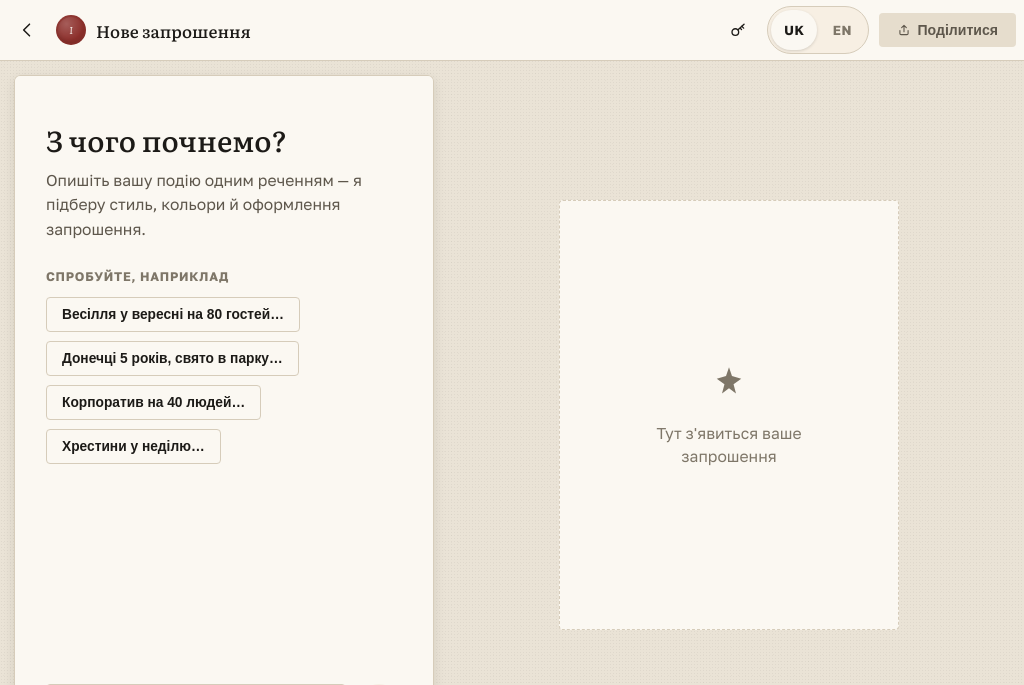
Test case: navigation › brings the editor's back button home
The width and height of the screenshot is (1024, 685).
Expected: the text "З чого почнемо?" is shown, [46,118,287,161]
Click the button named "Назад": {"x": 27, "y": 30} [8,11,46,49]
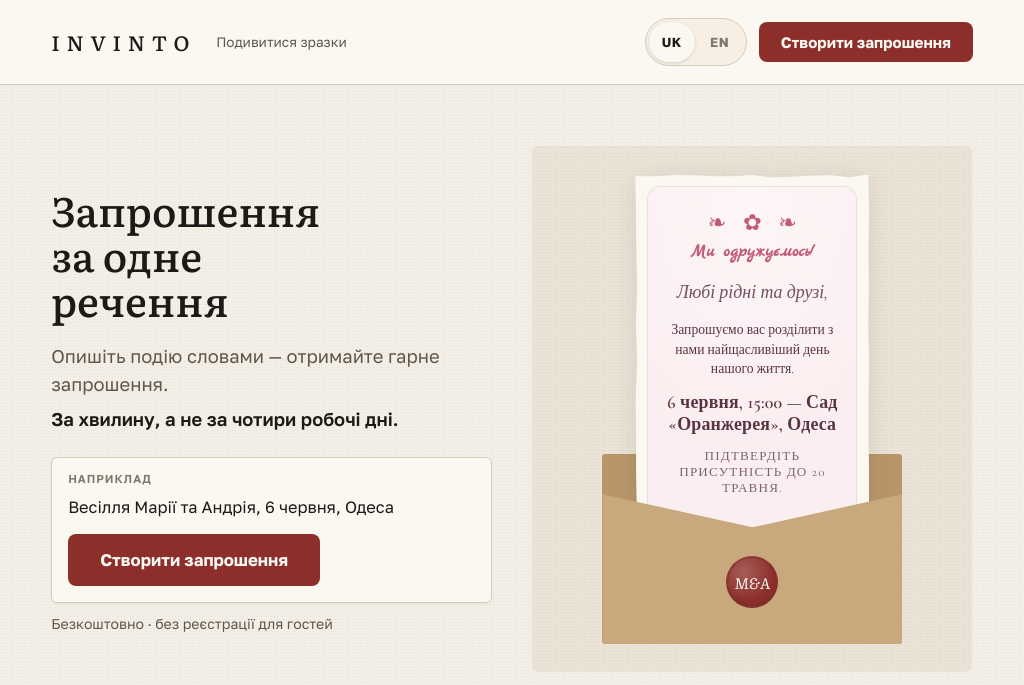
Expected: the heading "Запрошення за одне речення" is shown, [51,187,317,322]
